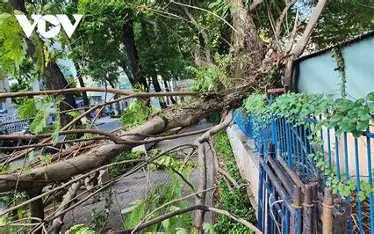ROAD_OBSTACLE: (0, 2, 350, 232)
